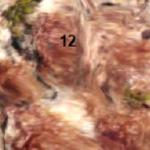alive: (50, 62, 132, 143)
